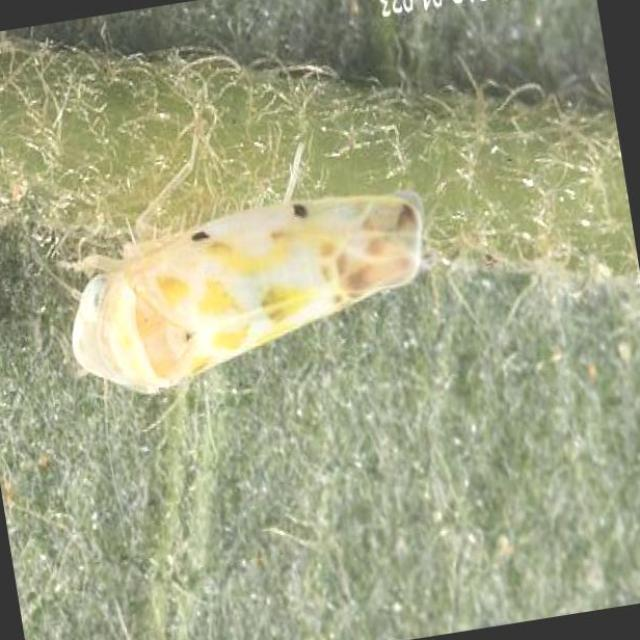green leaf hopper: (73, 188, 423, 394)
